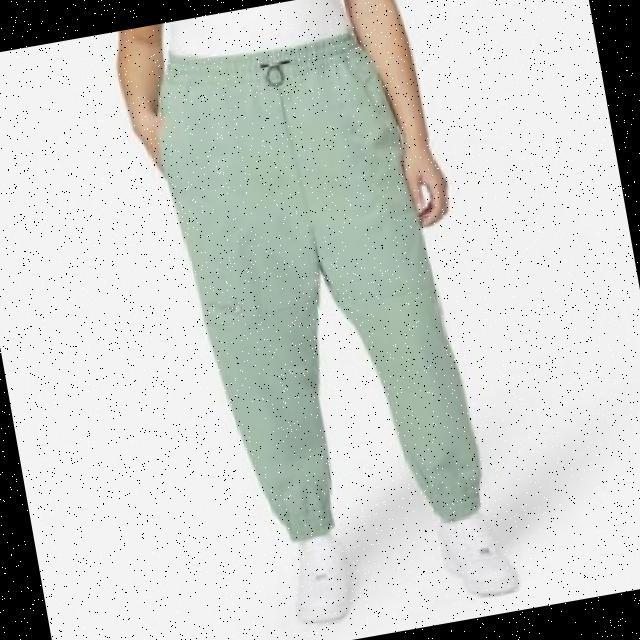Nike: (209, 296, 243, 317)
